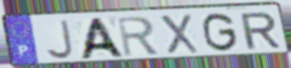A: (77, 16, 127, 60)
G: (201, 11, 240, 53)
J: (43, 19, 75, 61)
R: (115, 15, 161, 58), (238, 11, 283, 51)
X: (158, 13, 201, 56)
